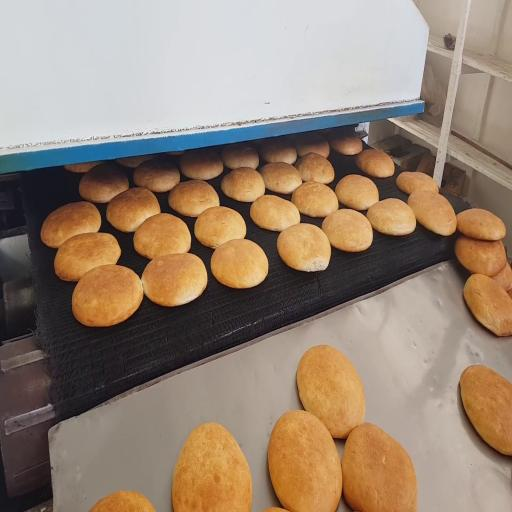bread: (268, 411, 343, 511), (172, 423, 251, 511), (342, 423, 417, 511), (297, 345, 365, 438), (460, 366, 511, 455), (72, 266, 143, 327), (142, 253, 207, 306), (54, 233, 121, 281), (463, 274, 511, 336), (211, 239, 268, 288), (41, 202, 101, 248), (134, 213, 191, 259), (277, 224, 331, 271), (106, 188, 160, 232), (408, 190, 456, 236), (322, 209, 372, 252), (195, 207, 246, 248), (455, 236, 506, 276), (79, 163, 129, 203), (169, 180, 219, 217), (367, 198, 416, 235), (250, 195, 300, 231), (292, 182, 338, 217), (335, 175, 379, 210), (221, 167, 265, 202), (134, 158, 179, 192), (457, 209, 506, 240), (180, 149, 223, 180), (260, 163, 302, 194), (90, 491, 154, 511), (295, 153, 334, 183), (356, 149, 394, 177), (221, 143, 259, 169), (260, 138, 297, 164), (397, 172, 438, 194), (295, 134, 329, 158), (328, 134, 362, 155), (493, 264, 511, 291), (116, 155, 153, 168), (64, 161, 102, 173), (166, 150, 184, 155), (264, 507, 286, 511)
